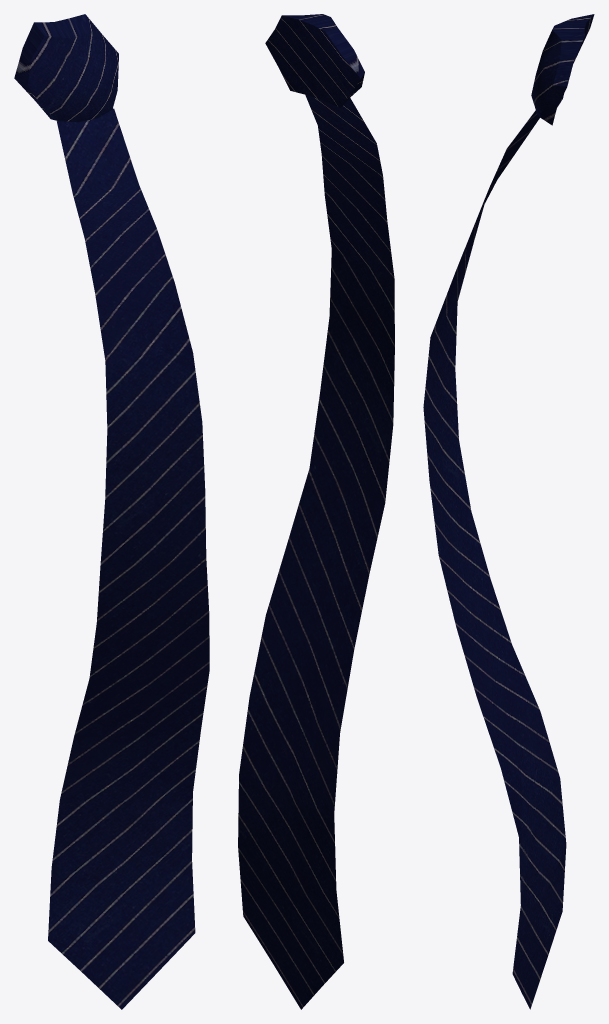
Rendered from Pose-1_SuitTie-4.fbx.
3 views of the same model, side by side, from view 1: azimuth 30°, elevation 25°; view 2: azimuth 150°, elevation 25°; view 3: azimuth 270°, elevation 25° (orthographic). The views are drawn at different scales.
Visible parts, largest first — view 1: Pose-1_SuitTie-4; view 2: Pose-1_SuitTie-4; view 3: Pose-1_SuitTie-4.
Part boxes in pixels (left/top/right/bottom): Pose-1_SuitTie-4: left=14, top=14, right=209, bottom=1009; Pose-1_SuitTie-4: left=238, top=14, right=394, bottom=1009; Pose-1_SuitTie-4: left=423, top=14, right=594, bottom=1009.
Bounding box in the file's own units: 7.97 × 50.39 × 8.06.
